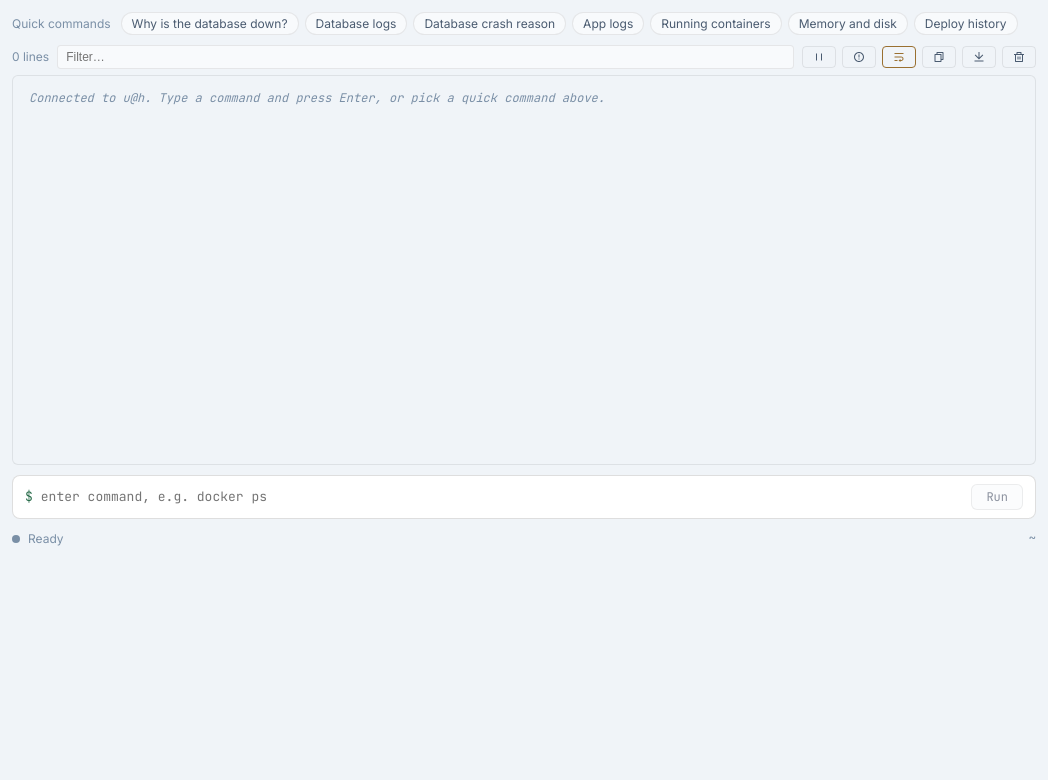
RemoteTerminal › the one-click database check chains logs, crash reason and memory
This screenshot has width=1048, height=780.
Click the button "Why is the database down?".
click(210, 24)  # box [121,12,299,35]
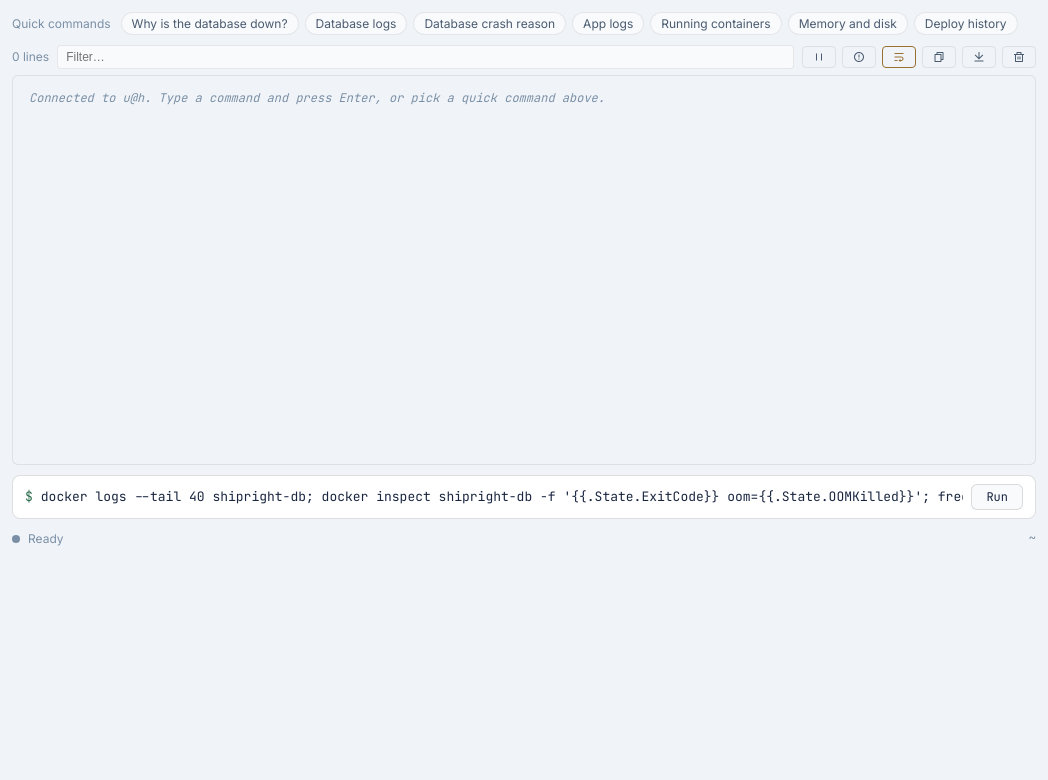
Result: the field named "command" holds "docker logs --tail 40 shipright-db; docker inspect shipright-db -f '{{.State.ExitCode}} oom={{.State.OOMKilled}}'; free -m" at [41,487,963,507]
